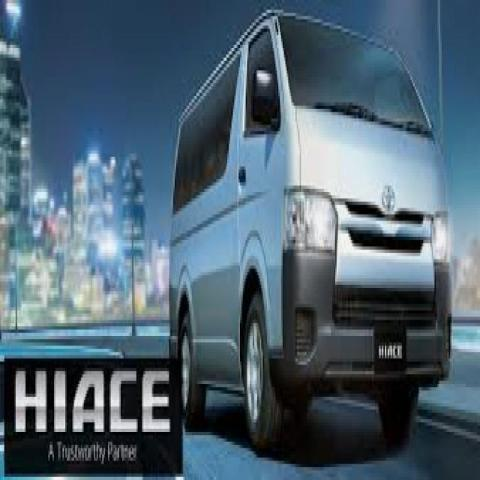van: (166, 7, 454, 461)
